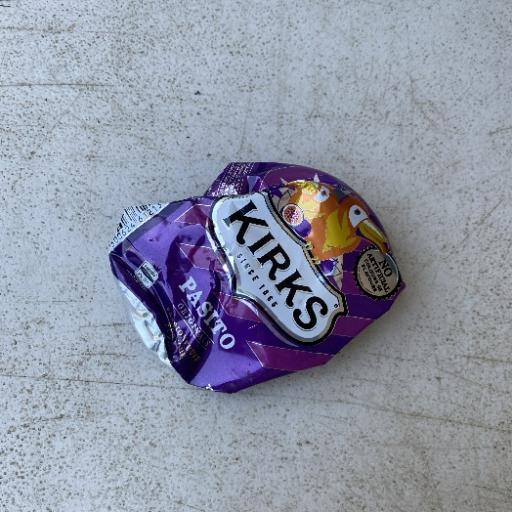Metal: (106, 159, 408, 395)
